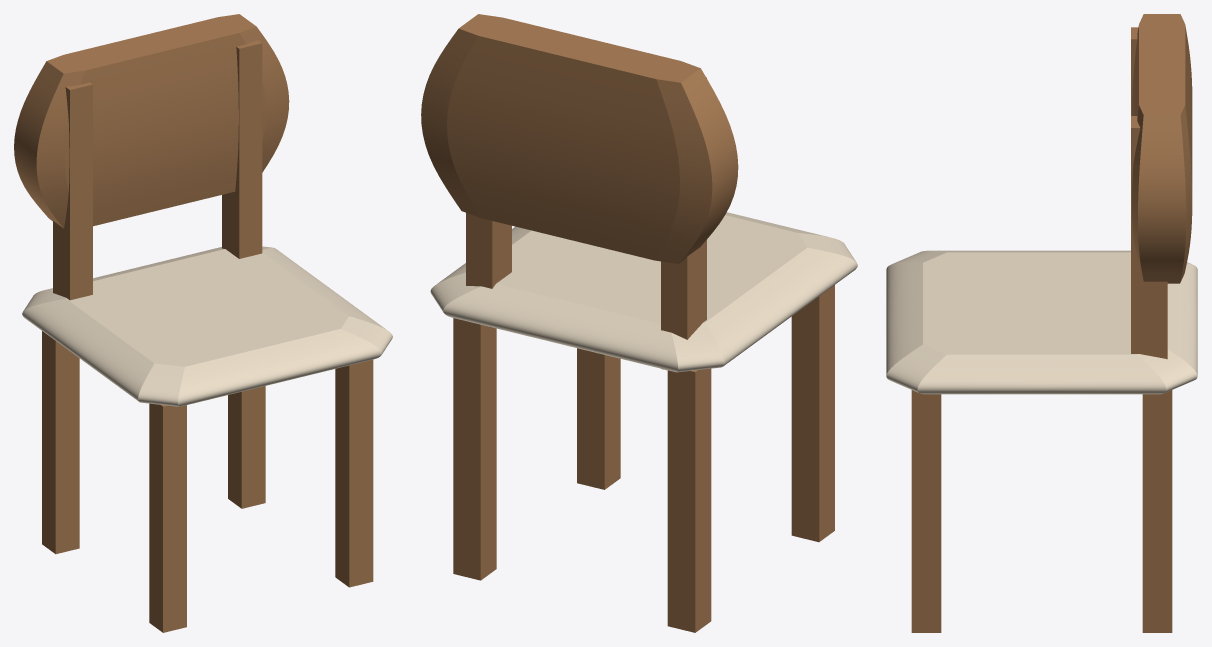
File: dining_chair.glb
The picture shows the model from 3 angles, left to right: view 1: azimuth 30°, elevation 25°; view 2: azimuth 150°, elevation 25°; view 3: azimuth 270°, elevation 25°; orthographic projection. The views are drawn at different scales.
Parts seen in each view (by area): view 1: Seat pad, Backrest, Leg.006, Leg.004, Leg.005, Back support, Back support.001, Leg.007; view 2: Backrest, Seat pad, Leg.005, Leg.007, Leg.004, Leg.006, Back support, Back support.001; view 3: Seat pad, Backrest, Leg.006, Leg.007, Back support.001.
Boxes of the visible parts, box(x1,y1,x2,y2) form: Seat pad: box(22, 246, 392, 406); Backrest: box(14, 14, 289, 228); Leg.006: box(335, 360, 373, 587); Leg.004: box(149, 403, 186, 632); Leg.005: box(42, 331, 79, 554); Back support: box(53, 82, 92, 300); Back support.001: box(222, 40, 262, 258); Leg.007: box(228, 386, 265, 508); Backrest: box(421, 14, 738, 263); Seat pad: box(430, 212, 857, 372); Leg.005: box(667, 368, 711, 632); Leg.007: box(453, 318, 496, 580); Leg.004: box(791, 285, 834, 542); Leg.006: box(577, 348, 620, 489); Back support: box(661, 77, 706, 370); Back support.001: box(466, 213, 511, 327); Seat pad: box(886, 250, 1197, 394); Backrest: box(1132, 14, 1192, 283); Leg.006: box(911, 390, 941, 632); Leg.007: box(1142, 390, 1172, 632); Back support.001: box(1131, 116, 1167, 359).
Bounding box in the file's own units: 0.4999 × 0.896 × 0.4923.
